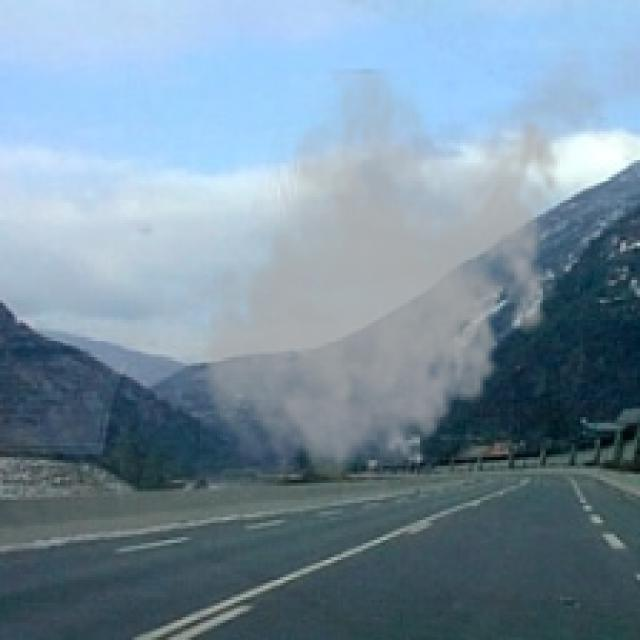Smoke: (194, 68, 572, 494)
